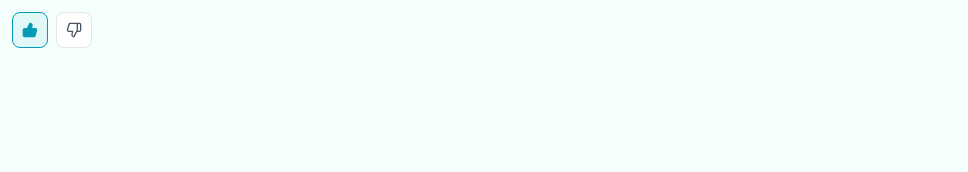
MessageFeedback › rolls the thumb back and shows an error toast when saving fails
What coordinates should you click on to do the following:
click the button named "Not helpful"
I would click on:
 (74, 30)
Its box is left=56, top=12, right=92, bottom=48.
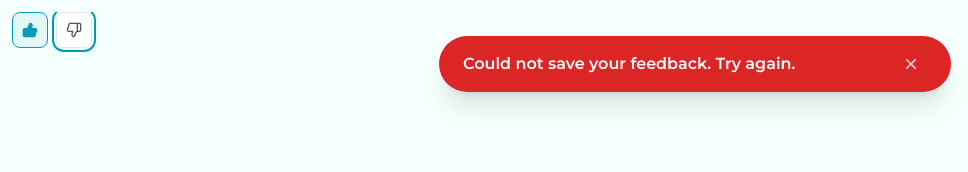
Expected: the text "Could not save your feedback. Try again." is shown, left=463, top=52, right=795, bottom=76
